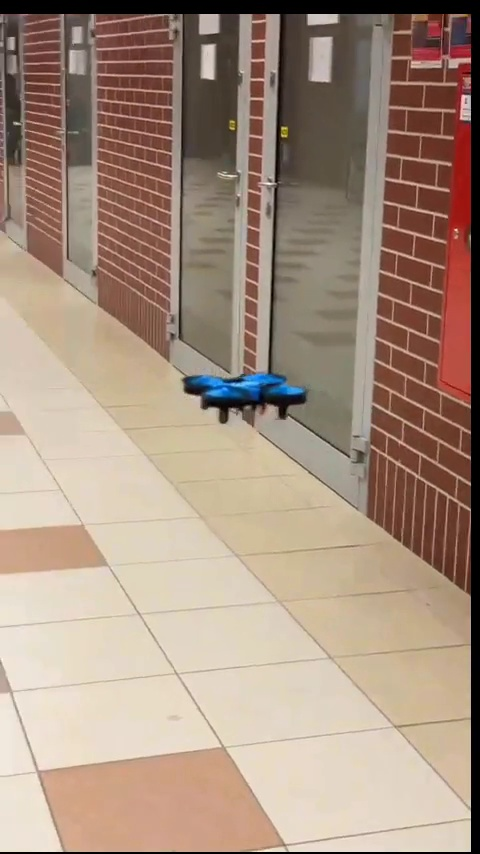drone: (180, 367, 298, 425)
